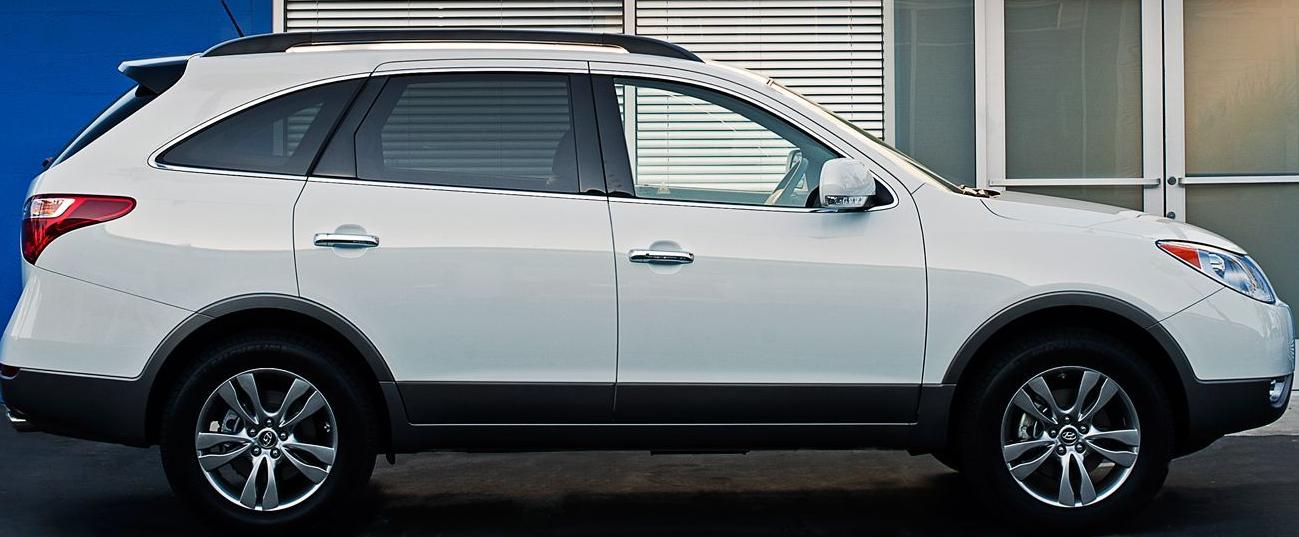backlight: (17, 189, 143, 274)
headlight: (1152, 228, 1278, 312)
side_glass: (149, 74, 905, 219)
